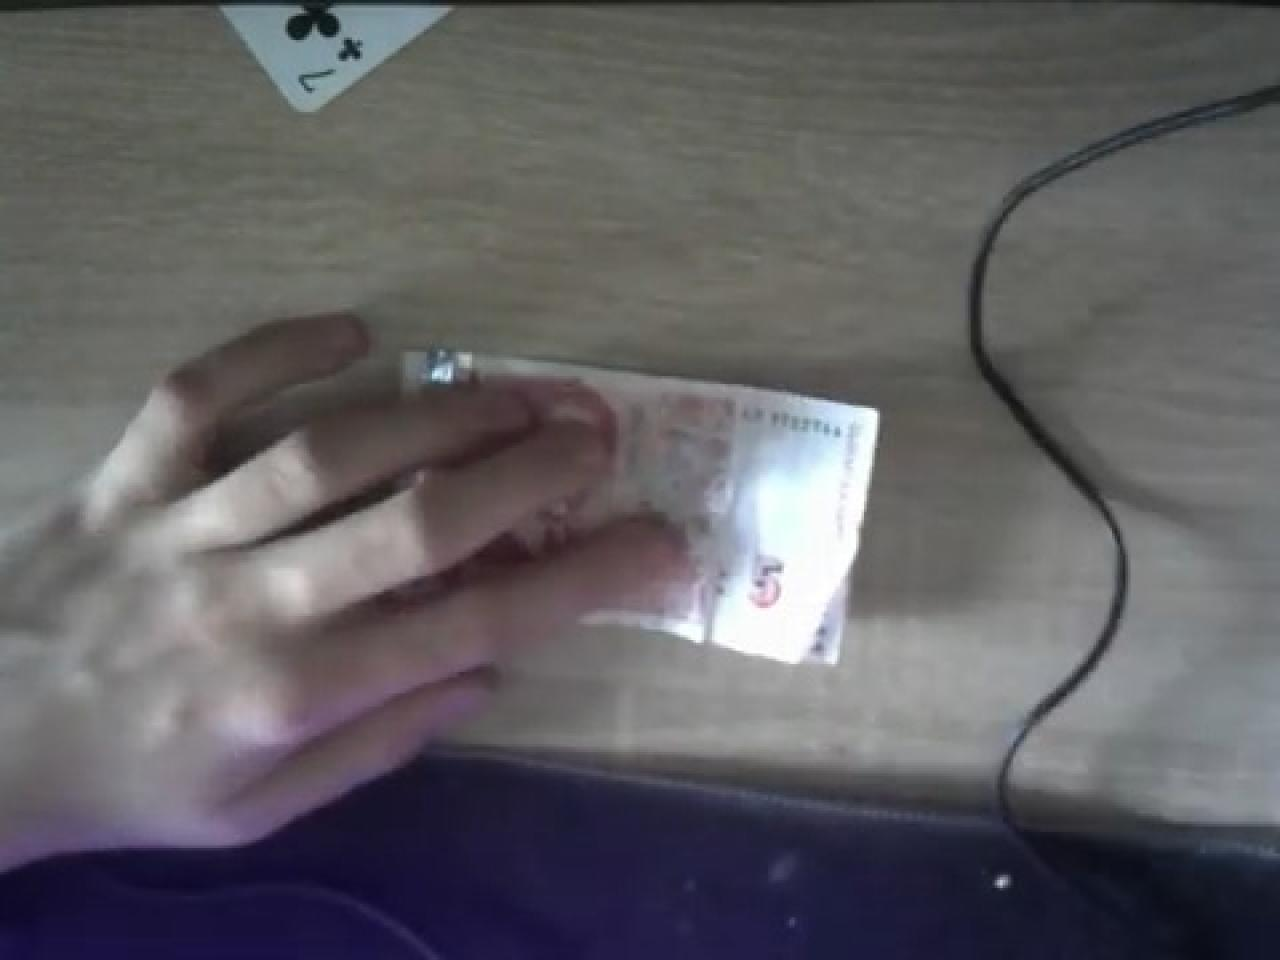5leva: (381, 347, 883, 664), (400, 352, 877, 664)
